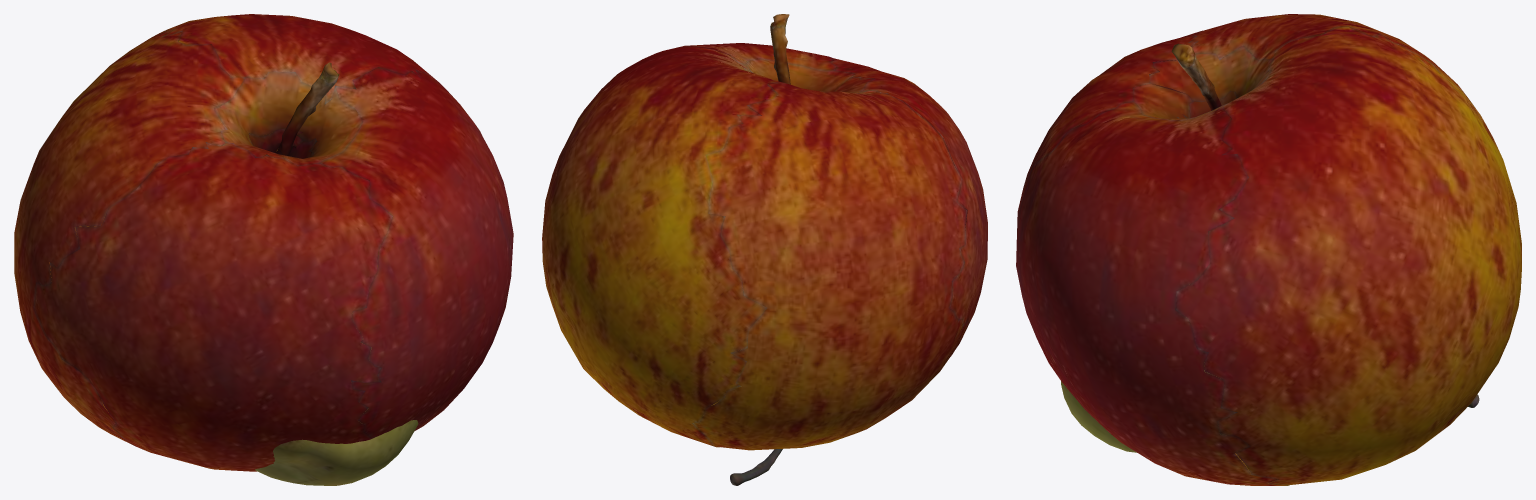
Rendered from pickups_food.glb.
3 renders of one model, left to right at view 1: azimuth 30°, elevation 25°; view 2: azimuth 150°, elevation 25°; view 3: azimuth 270°, elevation 25°, orthographic. The views are drawn at different scales.
Parts seen in each view (by area): view 1: apple, pear; view 2: apple, pear; view 3: apple, pear.
Part boxes in pixels (x1,y1,x2,y2): apple: (14, 14, 513, 471); pear: (255, 343, 418, 485); apple: (542, 14, 987, 450); pear: (730, 291, 782, 485); apple: (1016, 14, 1521, 485); pear: (1061, 370, 1479, 452).
Size of the model in its own units: 0.0976 by 0.0854 by 0.0959.
2 materials, 2 textured.
